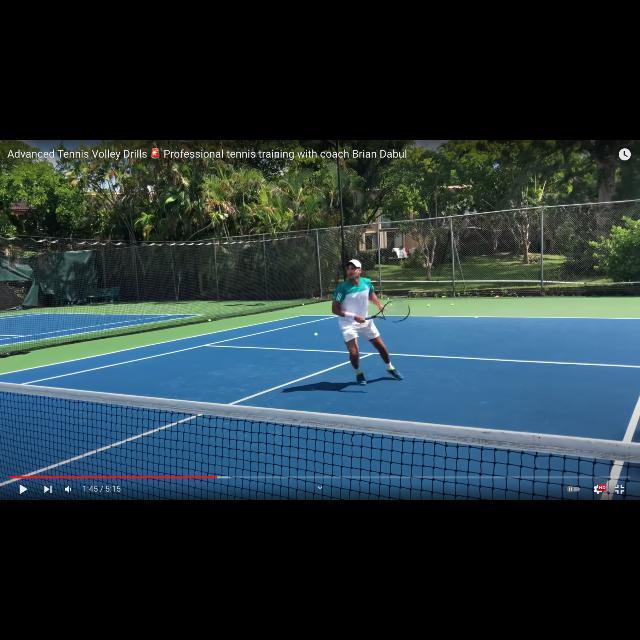tennis-ball: (314, 332, 317, 336), (208, 319, 211, 322), (441, 295, 443, 297), (444, 296, 446, 298), (302, 303, 304, 305), (451, 303, 453, 305), (427, 304, 429, 306)
